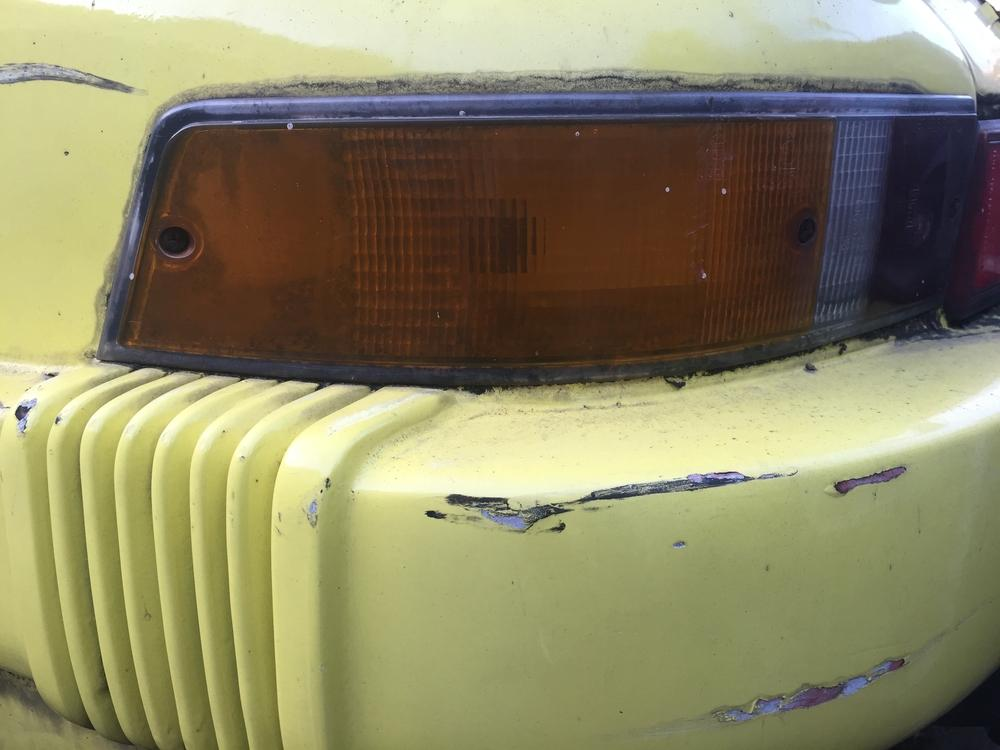scratch: (632, 635, 947, 736), (427, 462, 817, 534), (0, 60, 147, 94)
